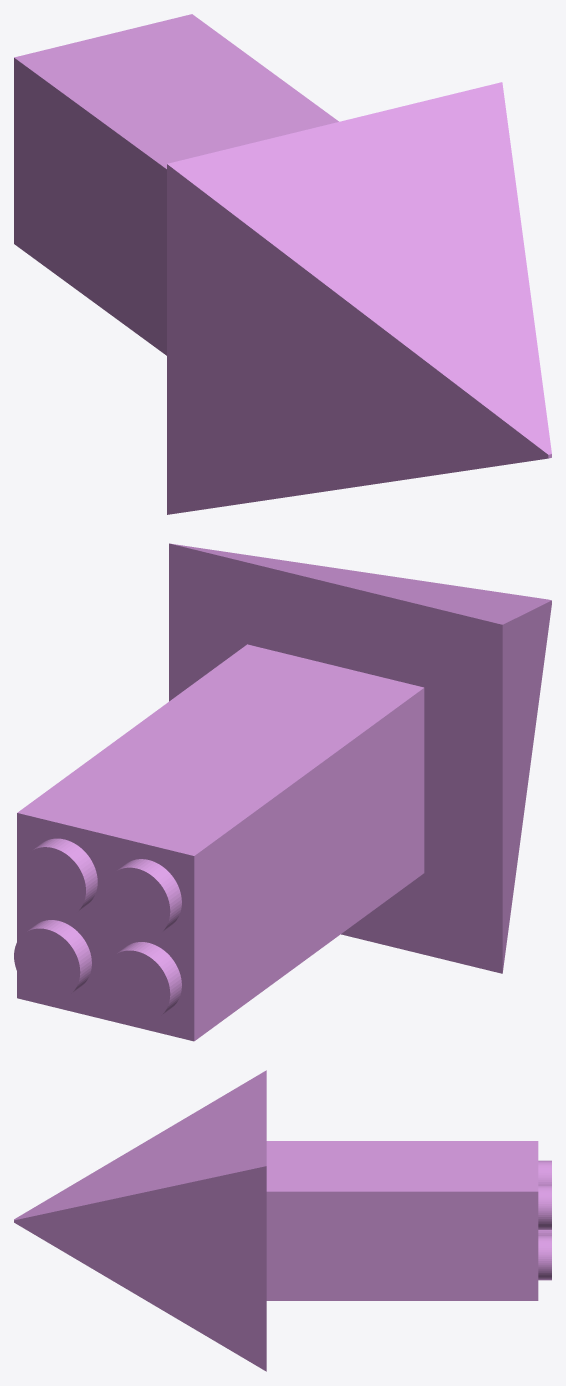
Rendered from rocket.glb.
3 views of the same model, one above another, from view 1: azimuth 30°, elevation 25°; view 2: azimuth 150°, elevation 25°; view 3: azimuth 270°, elevation 25° (orthographic). The views are drawn at different scales.
Parts seen in each view (by area): view 1: Cube; view 2: Cube; view 3: Cube.
Part boxes in pixels (bbox=[...]): Cube: bbox=[14, 14, 551, 514]; Cube: bbox=[14, 543, 551, 1041]; Cube: bbox=[14, 1070, 551, 1371].
Size of the model in its own units: 3.18 by 3.18 by 7.54.
